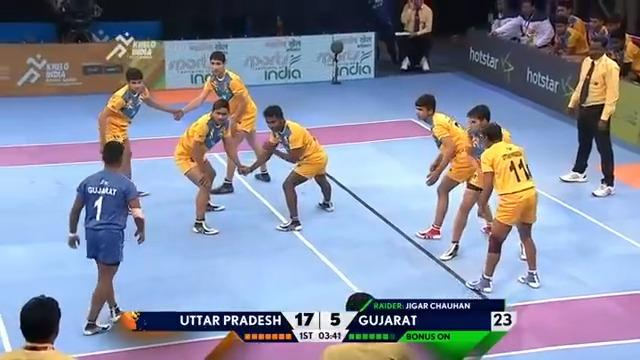Player: (173, 50, 272, 194), (465, 121, 541, 294), (413, 92, 490, 260), (239, 104, 335, 231), (96, 66, 181, 197), (558, 33, 621, 197), (173, 98, 233, 235), (0, 294, 77, 359)
Raider: (66, 140, 145, 335)
referee: (397, 0, 433, 72), (366, 0, 400, 65), (53, 0, 102, 43)
